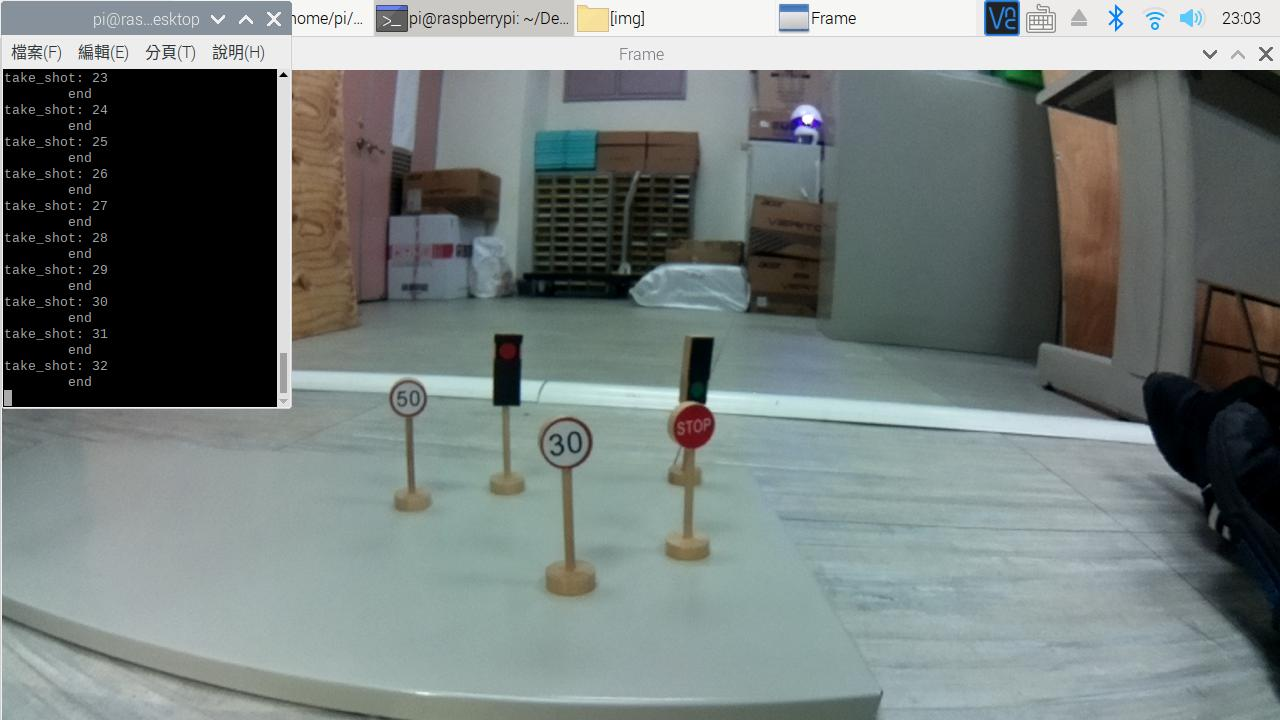Green: (688, 333, 712, 401)
Red: (492, 331, 520, 403)
Speed30: (537, 414, 593, 472)
Speed50: (389, 378, 427, 418)
Stop: (670, 399, 718, 448)
